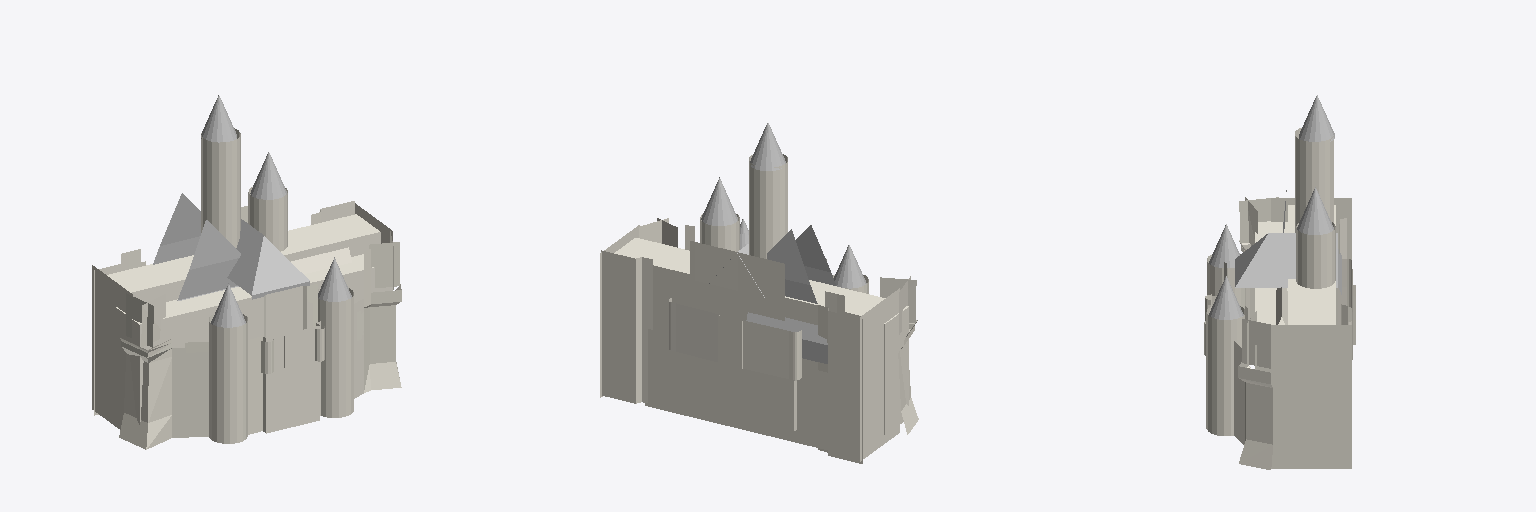
3 views of the same model, side by side, from view 1: azimuth 30°, elevation 25°; view 2: azimuth 150°, elevation 25°; view 3: azimuth 270°, elevation 25° (orthographic).
Visible parts, largest first — view 1: CASTLE, Cubo.001, CASTLE.002, Cubo, CASTLE.008, CASTLE.007, CASTLE.018, CASTLE.003, CASTLE.034, CASTLE.031, CASTLE.029, CASTLE.019 (+12 smaller); view 2: CASTLE.024, CASTLE.021, CASTLE.022, CASTLE.032, CASTLE.027, CASTLE.026, Cubo, CASTLE.034, CASTLE.018, CASTLE.020, Cubo.001, CASTLE.019 (+7 smaller); view 3: CASTLE.023, CASTLE.007, CASTLE.031, CASTLE.003, CASTLE.018, CASTLE.030, Cubo, Cubo.001, CASTLE.034, CASTLE.005, CASTLE.009, CASTLE.035 (+6 smaller).
Boxes of the visible parts, box(x1,y1,x2,y2) form: CASTLE: box(185, 299, 363, 437); Cubo.001: box(115, 254, 392, 424); CASTLE.002: box(119, 338, 185, 449); Cubo: box(107, 214, 380, 302); CASTLE.008: box(209, 314, 247, 443); CASTLE.007: box(318, 288, 353, 417); CASTLE.018: box(201, 128, 240, 247); CASTLE.003: box(364, 249, 401, 392); CASTLE.034: box(92, 265, 132, 429); CASTLE.031: box(227, 219, 309, 299); CASTLE.029: box(252, 284, 317, 338); CASTLE.019: box(177, 220, 240, 300); CASTLE.024: box(601, 250, 652, 403); CASTLE.021: box(669, 298, 801, 380); CASTLE.022: box(676, 352, 796, 431); CASTLE.032: box(690, 241, 784, 320); CASTLE.027: box(645, 329, 827, 449); CASTLE.026: box(818, 305, 862, 463); Cubo: box(614, 238, 885, 369); CASTLE.034: box(860, 288, 899, 461); CASTLE.018: box(749, 154, 787, 258); CASTLE.020: box(746, 229, 827, 363); Cubo.001: box(884, 306, 908, 434); CASTLE.019: box(796, 225, 835, 285); CASTLE.023: box(1271, 325, 1351, 468); CASTLE.007: box(1206, 306, 1244, 435); CASTLE.031: box(1235, 233, 1337, 287); CASTLE.003: box(1238, 306, 1272, 469); CASTLE.018: box(1295, 128, 1333, 232); CASTLE.030: box(1296, 222, 1335, 288); Cubo: box(1288, 205, 1335, 324); Cubo.001: box(1255, 221, 1287, 372); CASTLE.034: box(1271, 198, 1351, 324); CASTLE.005: box(1242, 319, 1270, 368); CASTLE.009: box(1297, 187, 1333, 234); CASTLE.035: box(1299, 95, 1334, 141).
Bounding box in the file's own units: 146 × 154 × 69.48.
3 materials, 1 textured.